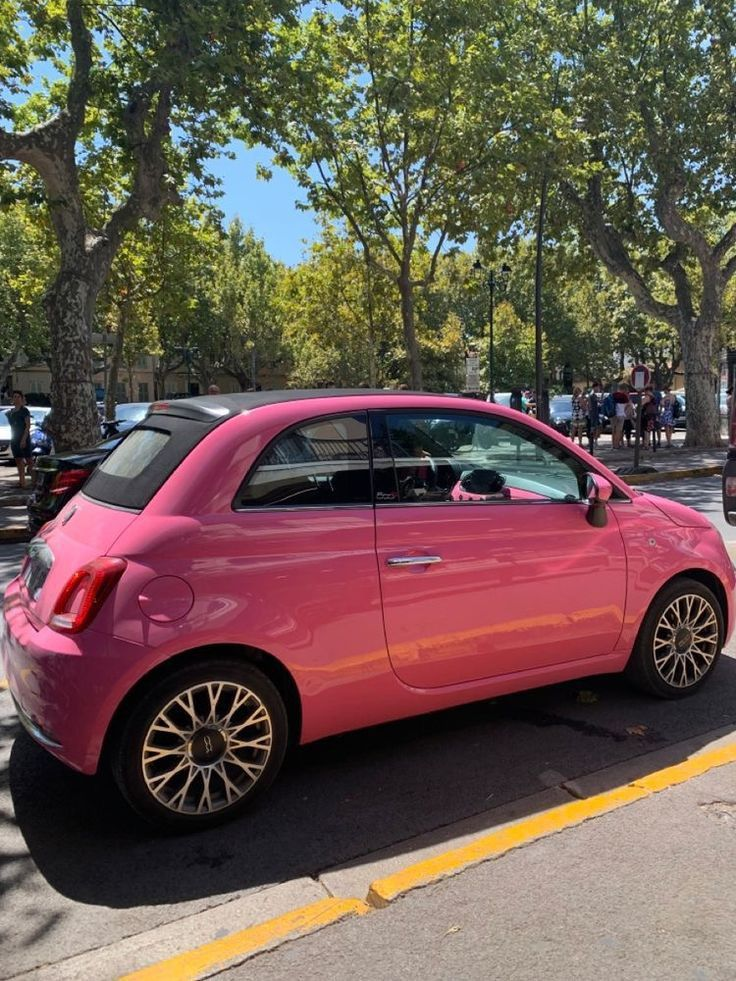car: (19, 396, 730, 868)
